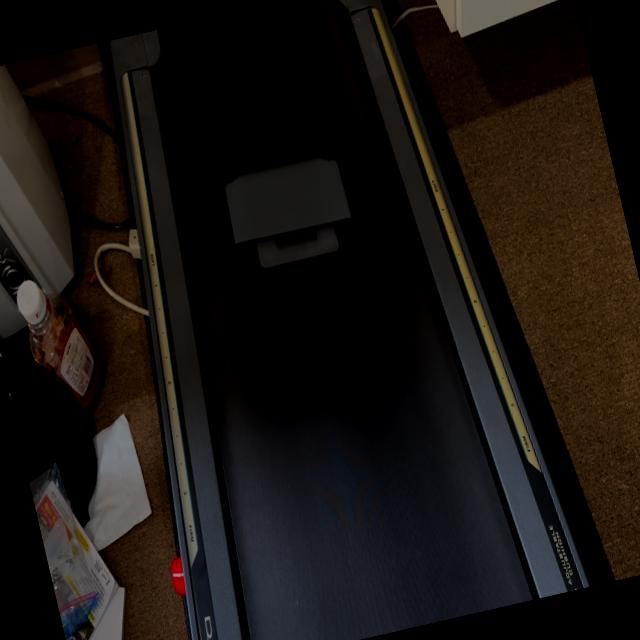Trash: (211, 132, 364, 284)
